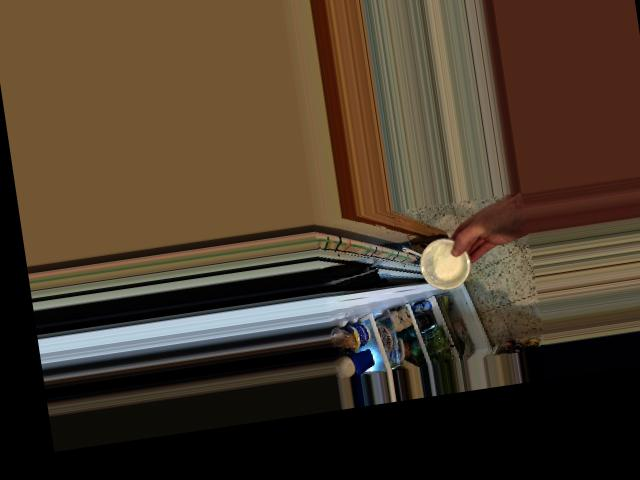cotage: (419, 232, 475, 284)
